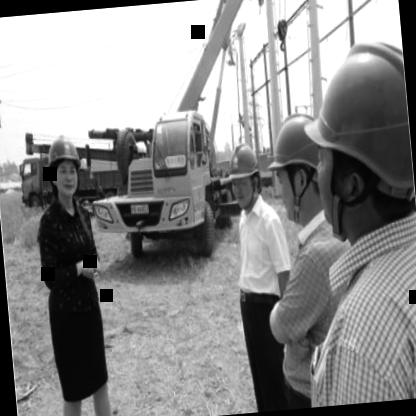helmet: (293, 17, 416, 240), (268, 102, 336, 224), (42, 131, 86, 204), (225, 136, 265, 214)
